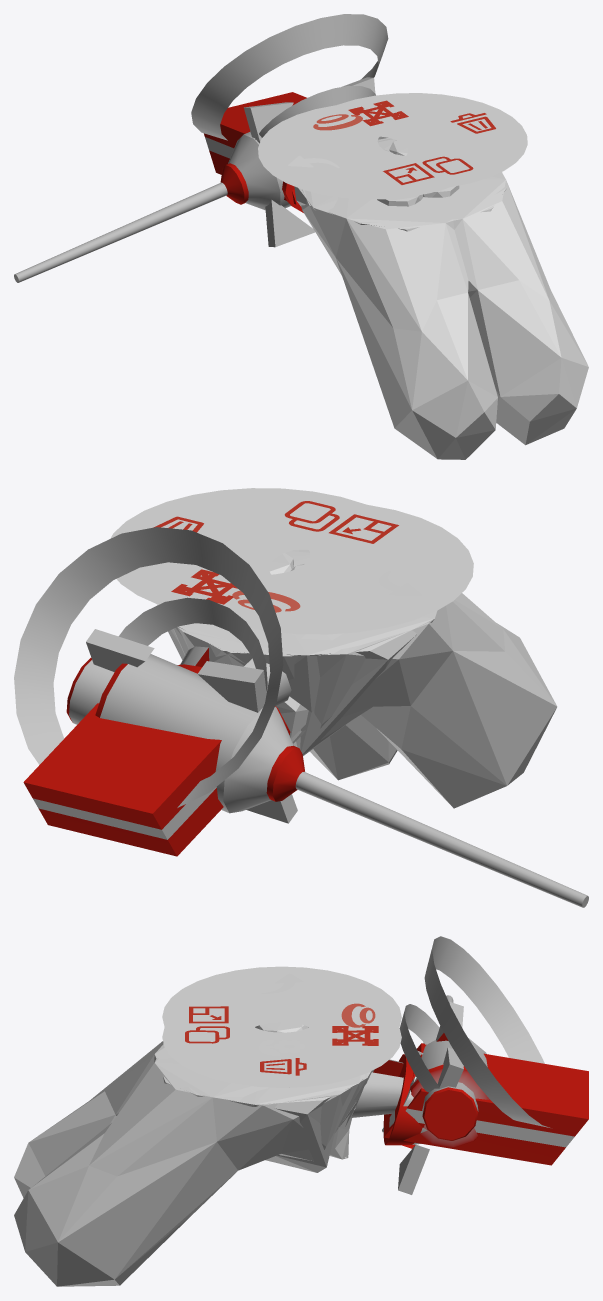
The model's file is controller-oculus.gltf.
The picture shows the model from 3 angles, top to bottom: view 1: azimuth 30°, elevation 25°; view 2: azimuth 150°, elevation 25°; view 3: azimuth 270°, elevation 25°; orthographic projection. The views are drawn at different scales.
Visible parts, largest first — view 1: left-body, right-body, left-thumbstick-disk, right-thumbstick-disk, tip-teleport, tip-airbrush, tip-scale, tip-eraser-sides; view 2: left-body, tip-teleport, tip-airbrush, left-thumbstick-disk, tip-eraser-sides, right-thumbstick-disk, right-body, tip-scale, tip-eraser-center, tip-tweezers, right-trigger, c-icon-uniformscale (+3 smaller); view 3: right-body, left-thumbstick-disk, right-thumbstick-disk, tip-teleport, left-body, tip-eraser-sides, tip-airbrush, tip-scale, tip-tweezers, tip-eraser-center, tip-marker-body, right-trigger (+2 smaller).
Part boxes in pixels (left/top/right/bottom): left-body: left=301, top=138, right=506, bottom=459; right-body: left=294, top=138, right=588, bottom=445; left-thumbstick-disk: left=258, top=102, right=484, bottom=199; right-thumbstick-disk: left=308, top=93, right=527, bottom=189; tip-teleport: left=191, top=14, right=388, bottom=140; tip-airbrush: left=14, top=131, right=387, bottom=282; tip-scale: left=243, top=77, right=375, bottom=247; tip-eraser-sides: left=204, top=92, right=306, bottom=204; left-body: left=173, top=593, right=557, bottom=808; tip-teleport: left=14, top=527, right=283, bottom=807; tip-airbrush: left=66, top=654, right=588, bottom=907; left-thumbstick-disk: left=218, top=501, right=473, bottom=634; tip-eraser-sides: left=23, top=703, right=223, bottom=856; right-thumbstick-disk: left=110, top=488, right=413, bottom=607; right-body: left=157, top=548, right=436, bottom=780; tip-scale: left=86, top=629, right=297, bottom=823; tip-eraser-center: left=33, top=787, right=216, bottom=839; tip-tweezers: left=180, top=646, right=291, bottom=705; right-trigger: left=275, top=696, right=308, bottom=738; c-icon-uniformscale: left=171, top=569, right=233, bottom=604; right-body: left=14, top=1043, right=372, bottom=1286; left-thumbstick-disk: left=162, top=966, right=401, bottom=1065; right-thumbstick-disk: left=162, top=1001, right=401, bottom=1087; tip-teleport: left=399, top=936, right=549, bottom=1127; left-body: left=14, top=1041, right=374, bottom=1197; tip-eraser-sides: left=384, top=1043, right=588, bottom=1165; tip-airbrush: left=409, top=995, right=489, bottom=1147; tip-scale: left=398, top=1002, right=463, bottom=1194; tip-tweezers: left=350, top=1059, right=403, bottom=1117; tip-eraser-center: left=405, top=1108, right=574, bottom=1147; tip-marker-body: left=383, top=1054, right=426, bottom=1145; right-trigger: left=329, top=1097, right=359, bottom=1159.
Bounding box in the file's own units: 0.1511 × 0.1062 × 0.1735.
